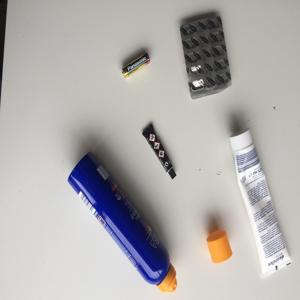metal: (60, 147, 170, 283), (136, 117, 179, 171), (115, 45, 160, 82)
plastic: (222, 128, 295, 280), (173, 12, 245, 104), (205, 224, 236, 268), (153, 264, 186, 298), (166, 167, 185, 186)
